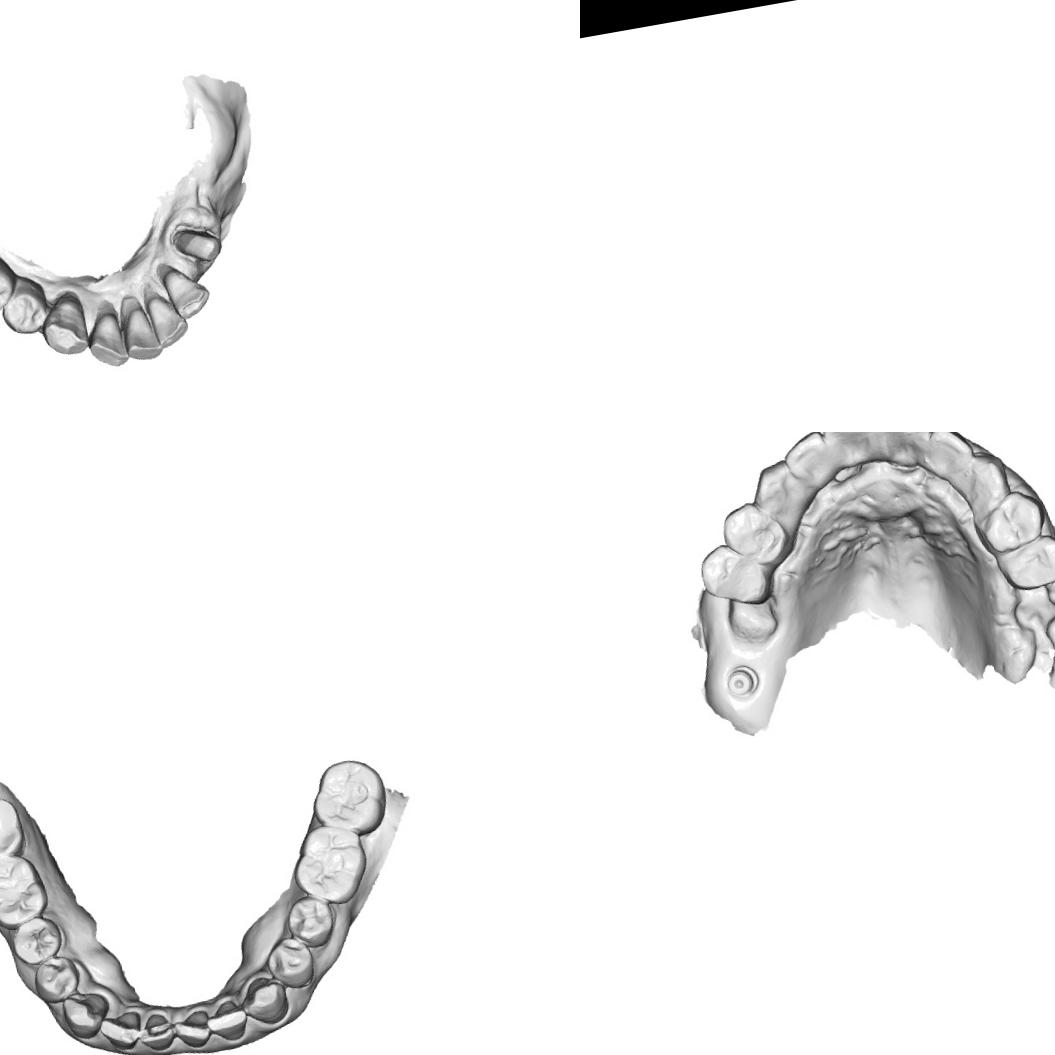canine: (35, 286, 94, 362), (744, 454, 807, 518), (234, 970, 292, 1028), (58, 985, 114, 1042), (964, 446, 1014, 506)
crown: (168, 219, 224, 271)
implant: (720, 658, 762, 702)
incisor: (776, 432, 836, 492), (158, 260, 214, 322), (80, 306, 131, 371), (117, 301, 165, 364), (144, 290, 192, 352), (818, 432, 888, 469), (202, 995, 250, 1045), (96, 1008, 145, 1054), (926, 432, 975, 478), (170, 1006, 213, 1052), (133, 1010, 176, 1055), (876, 432, 934, 464)
molar: (286, 818, 374, 911), (304, 753, 392, 843), (0, 851, 52, 934), (0, 792, 29, 867)
premolar: (694, 536, 776, 612), (972, 483, 1052, 555), (716, 496, 791, 570), (991, 528, 1055, 596), (0, 273, 55, 339), (260, 932, 318, 994), (282, 890, 338, 952), (6, 912, 66, 968), (29, 952, 84, 1006), (0, 250, 21, 318)
